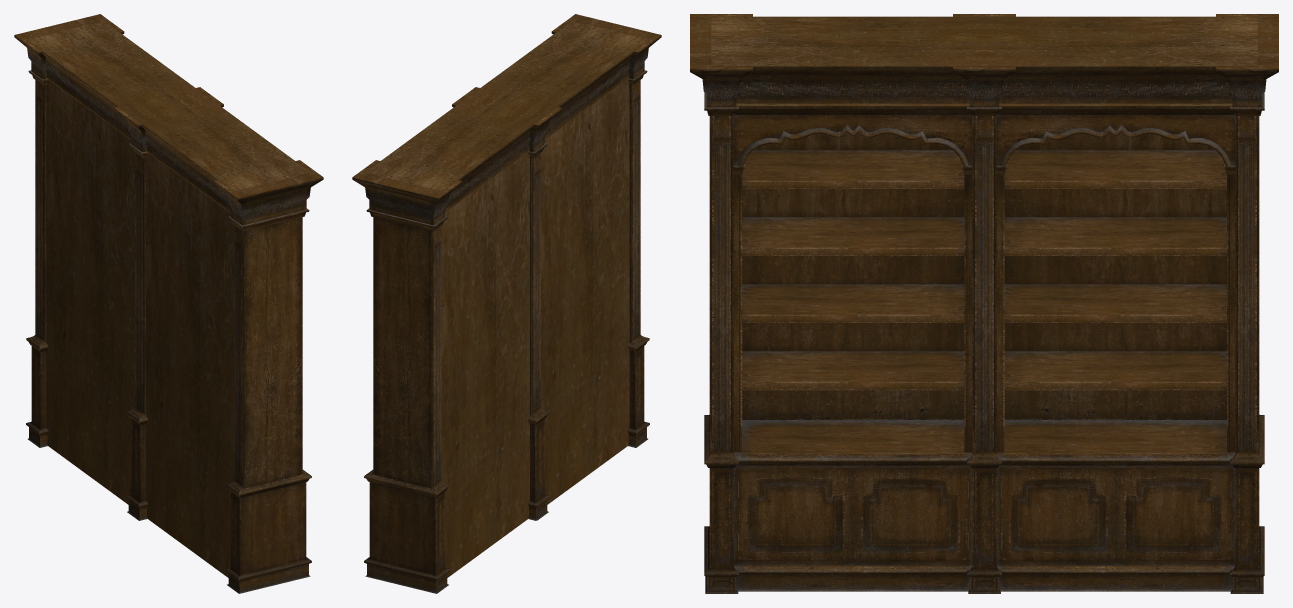
The model's file is 159_BookShelf.fbx.
3 views of the same model, side by side, from view 1: azimuth 30°, elevation 25°; view 2: azimuth 150°, elevation 25°; view 3: azimuth 270°, elevation 25° (orthographic). The views are drawn at different scales.
Visible parts, largest first — view 1: LOD_1_Group_0_Sub_1__sm30_159_BookShelf01A_B_Mat; view 2: LOD_1_Group_0_Sub_1__sm30_159_BookShelf01A_B_Mat; view 3: LOD_1_Group_0_Sub_1__sm30_159_BookShelf01A_B_Mat.
Boxes of the visible parts, left/top/right/bottom form: LOD_1_Group_0_Sub_1__sm30_159_BookShelf01A_B_Mat: left=14, top=14, right=323, bottom=593; LOD_1_Group_0_Sub_1__sm30_159_BookShelf01A_B_Mat: left=352, top=14, right=661, bottom=593; LOD_1_Group_0_Sub_1__sm30_159_BookShelf01A_B_Mat: left=690, top=14, right=1278, bottom=593.
Size of the model in its own units: 0.6117 by 2.72 by 2.74.
